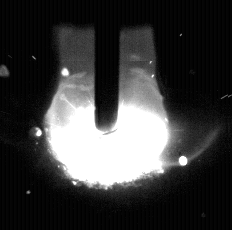arame: (95, 0, 119, 131)
poca: (45, 0, 171, 230)
